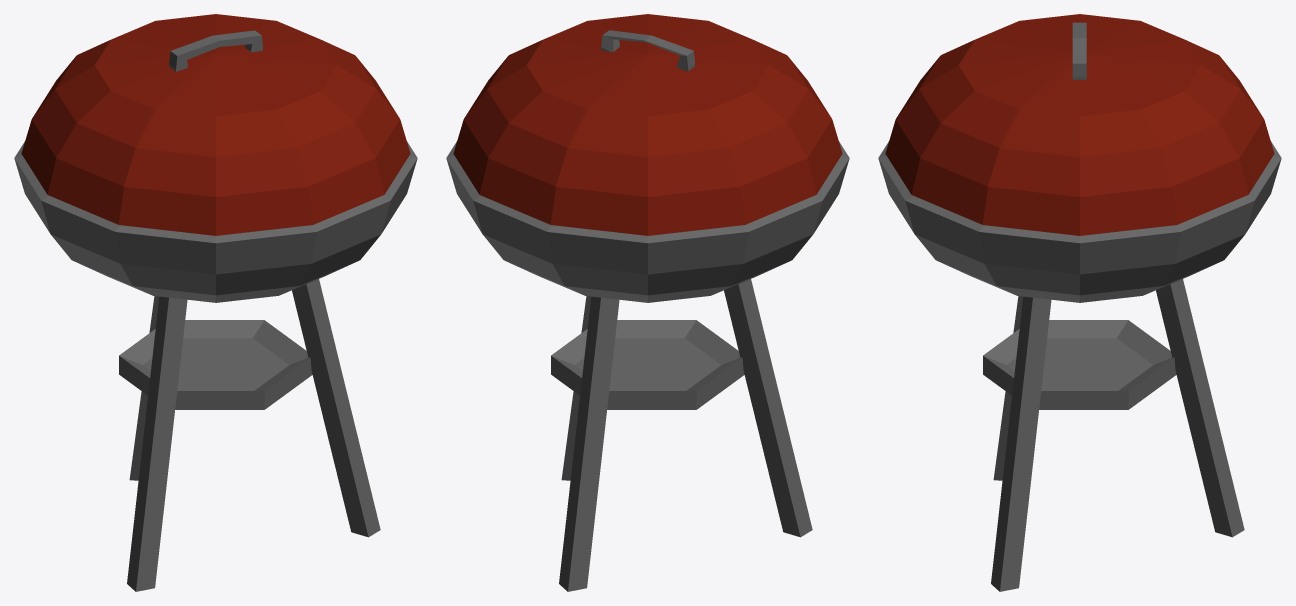
Rendered from Grill.glb.
3 renders of one model, left to right at view 1: azimuth 30°, elevation 25°; view 2: azimuth 150°, elevation 25°; view 3: azimuth 270°, elevation 25°, orthographic.
Parts seen in each view (by area): view 1: Grill1; view 2: Grill1; view 3: Grill1.
Part boxes in pixels (box(x1,y1,x2,y2)): Grill1: box(14, 14, 417, 591); Grill1: box(446, 14, 849, 591); Grill1: box(878, 14, 1281, 591).
Bounding box in the file's own units: 0.9431 × 1.27 × 0.9431.
